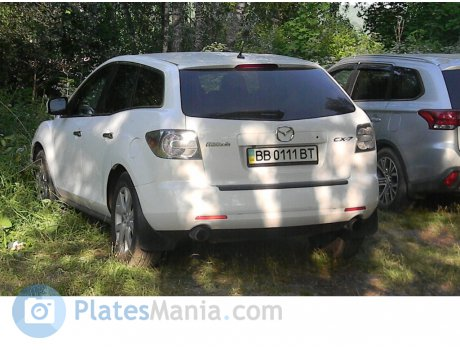car: (30, 52, 380, 269)
plate: (246, 142, 317, 165)
